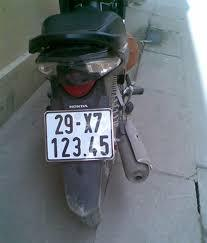numplate: (40, 107, 113, 161)
